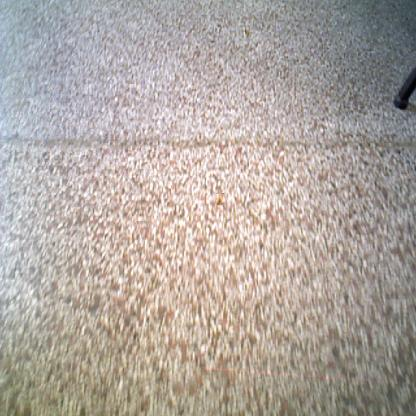dirty: (215, 193, 225, 205)
